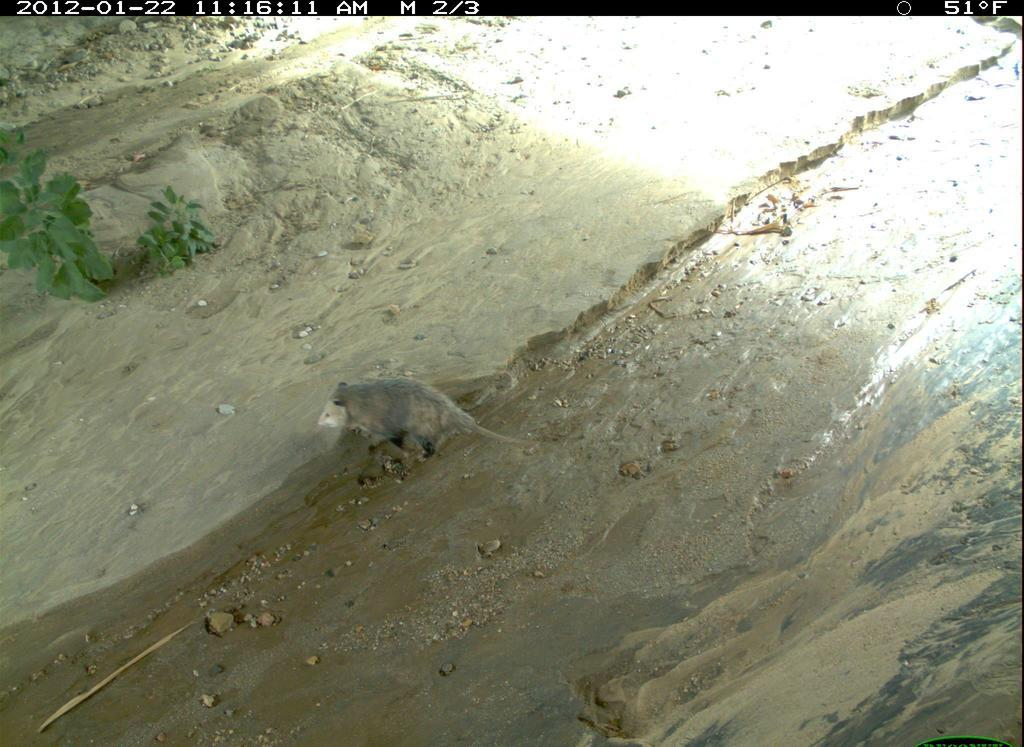opossum: (625, 743, 1024, 747)
